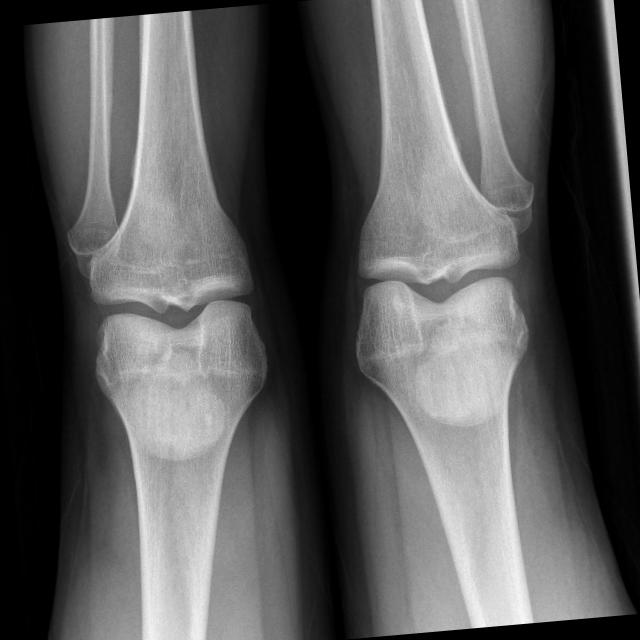Knee: (79, 198, 272, 432), (342, 193, 540, 408)
